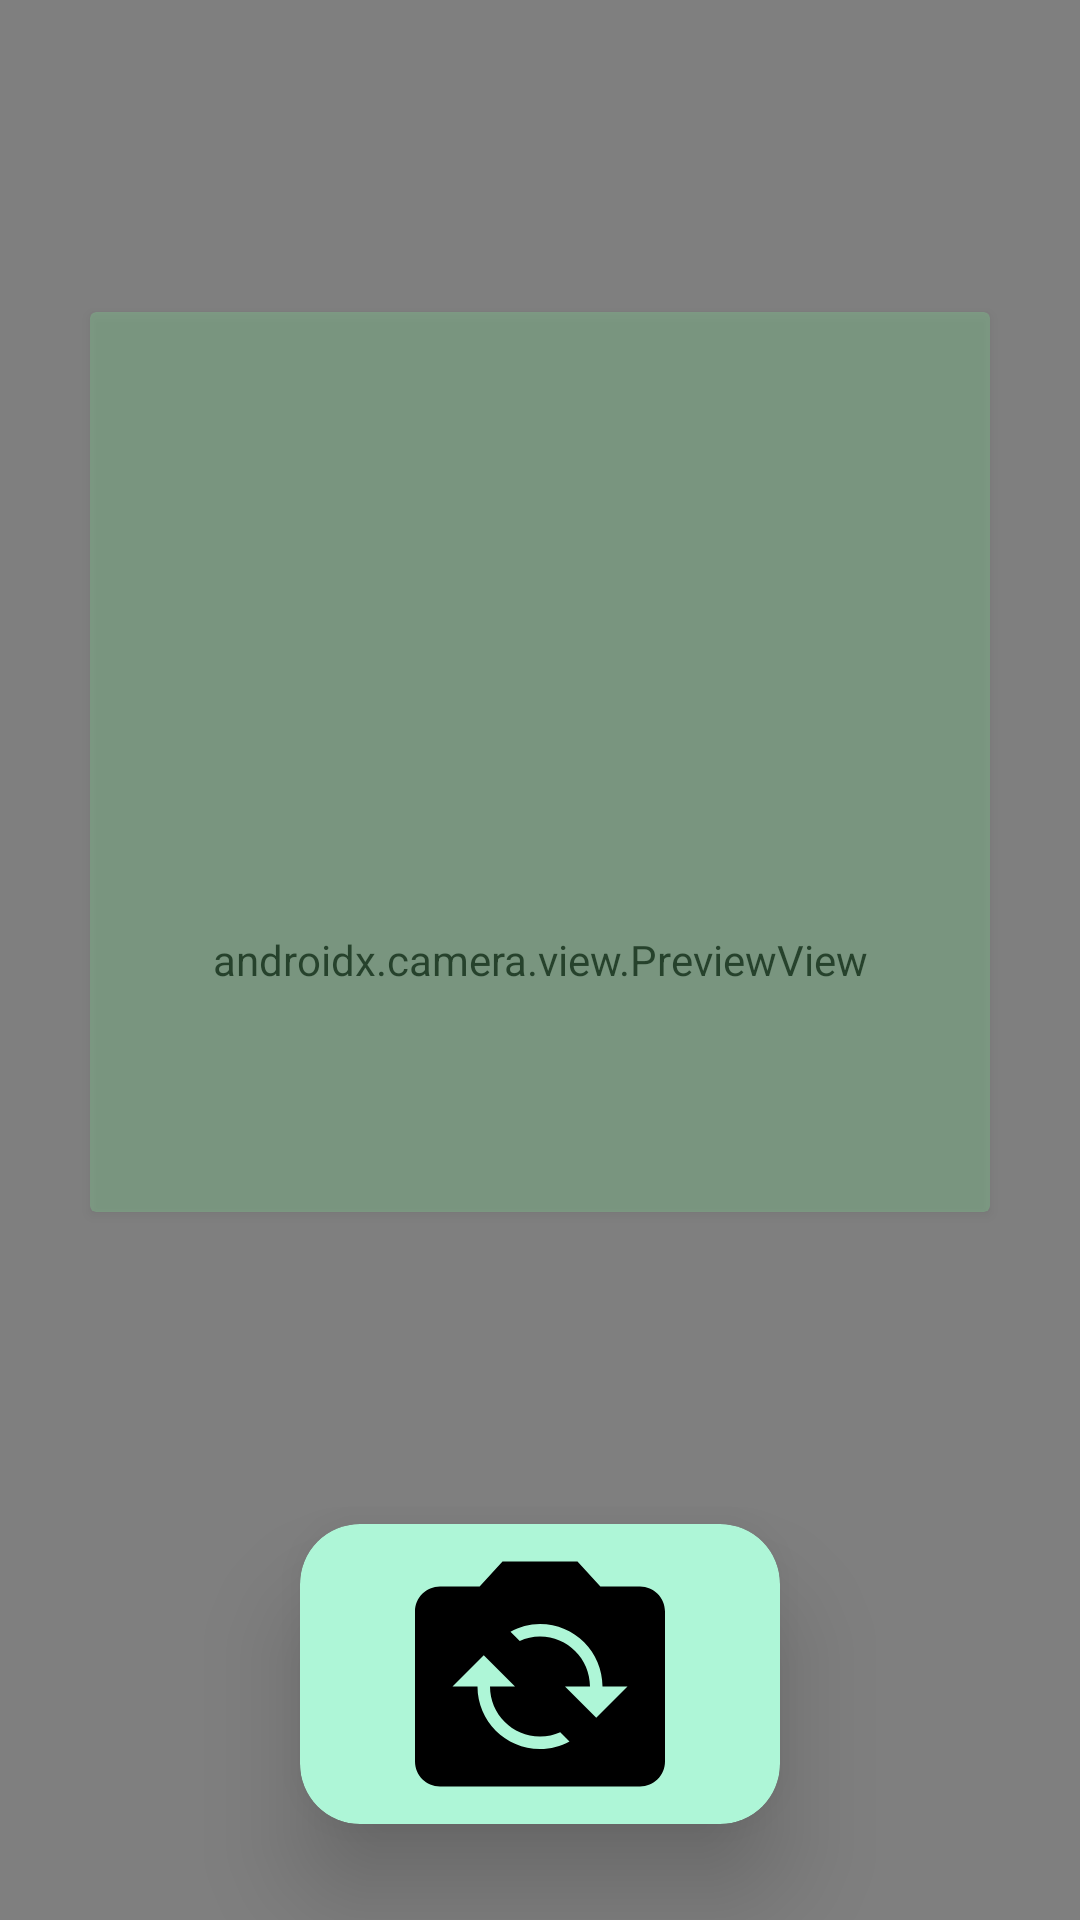

Named icons in this screenshot (1080px x 1920px) and their centers, point (x, y):
flip camera: point (540, 1674)
